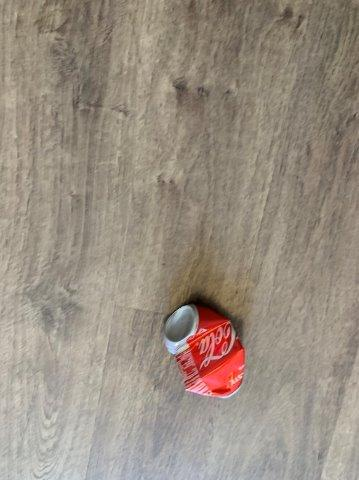kaleng: (165, 307, 243, 396)
